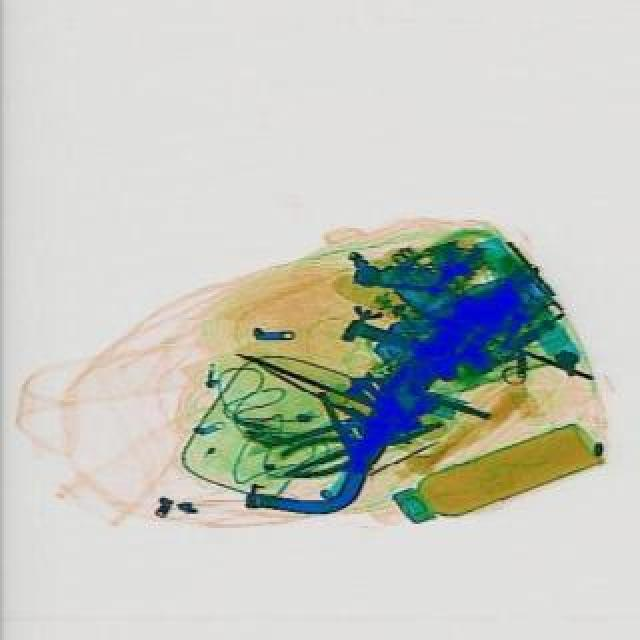wrench: (276, 408, 444, 484)
